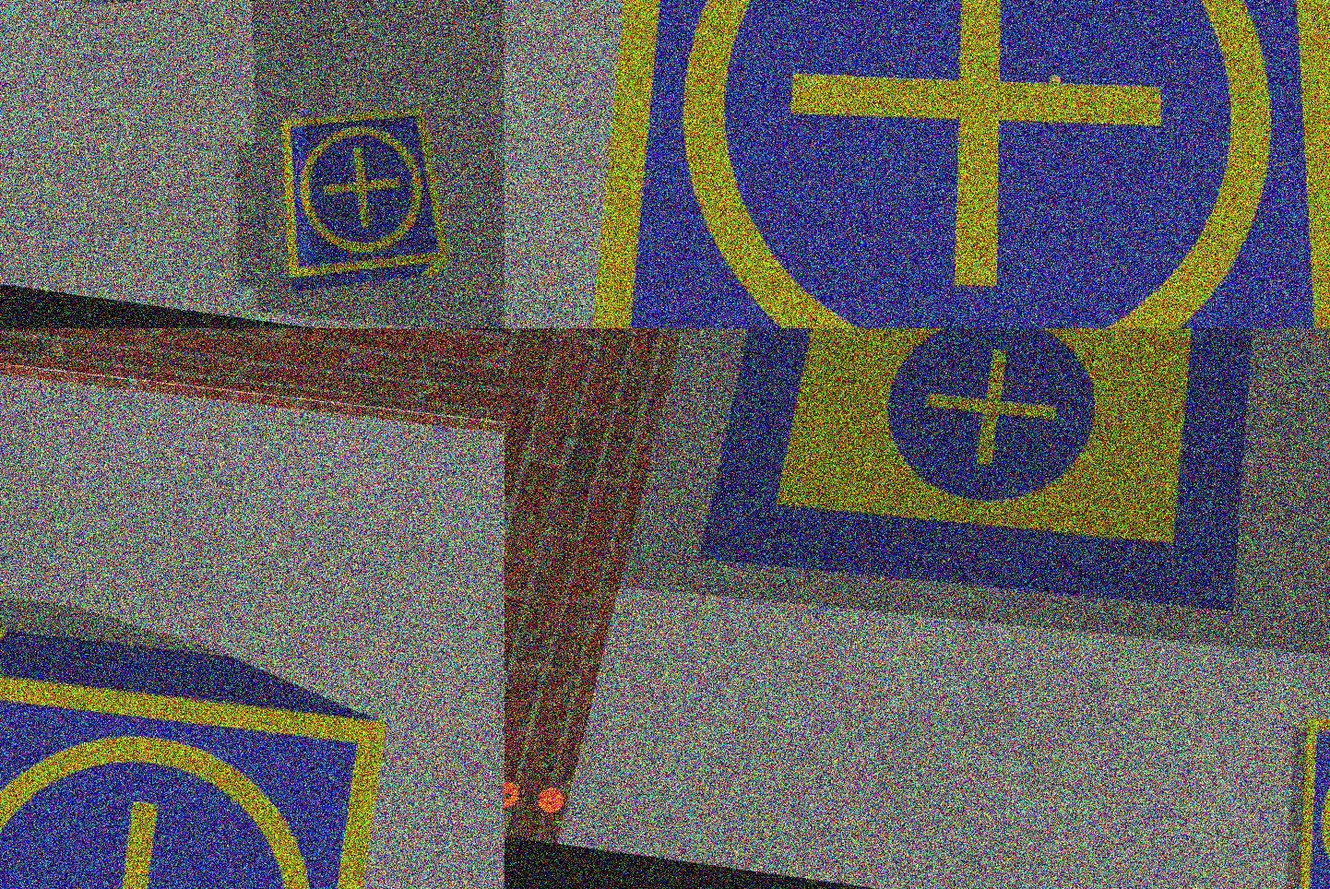large_base: (698, 328, 1287, 634)
small_base: (548, 1, 1330, 328), (1, 657, 393, 889), (262, 93, 472, 302)
